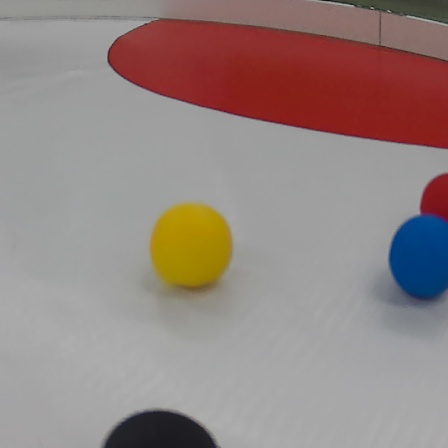black: (101, 408, 244, 448)
blue: (384, 209, 448, 311)
red: (420, 173, 448, 225)
red_base: (103, 16, 448, 150)
yellow: (148, 199, 235, 290)
